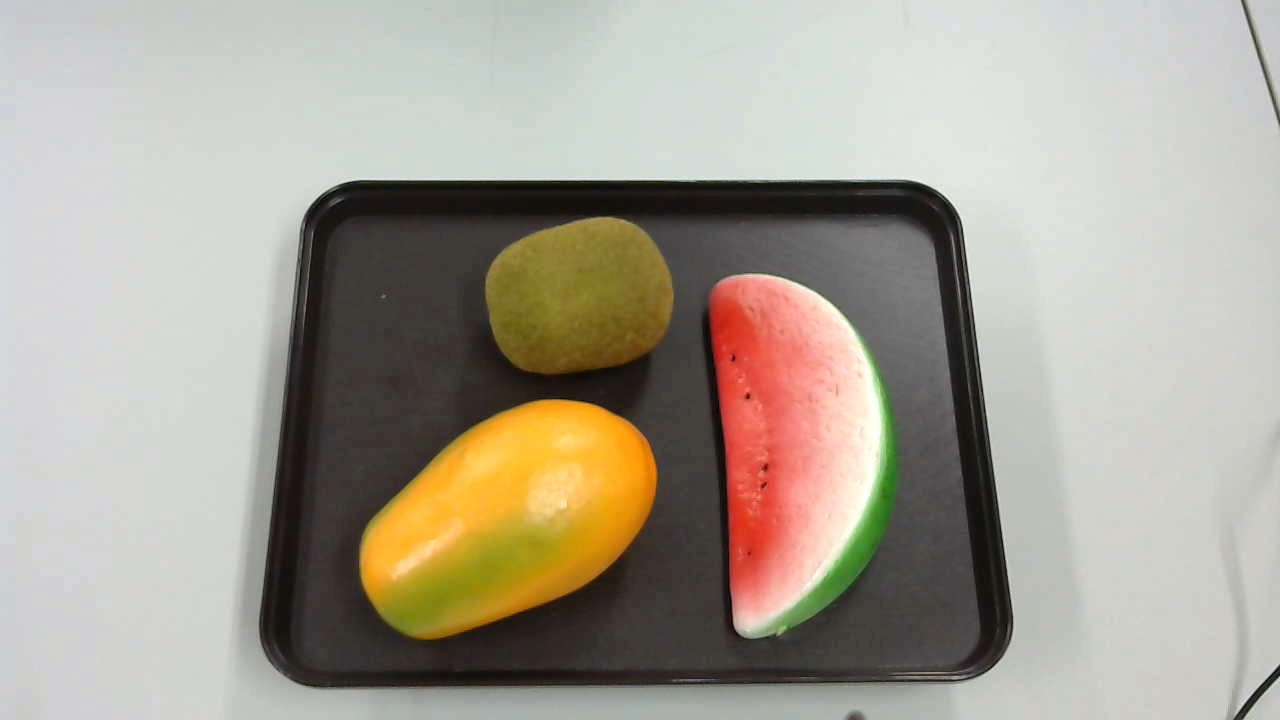kiwi fruit: (483, 212, 674, 375)
papya: (344, 396, 663, 647)
water melon: (706, 273, 900, 645)
